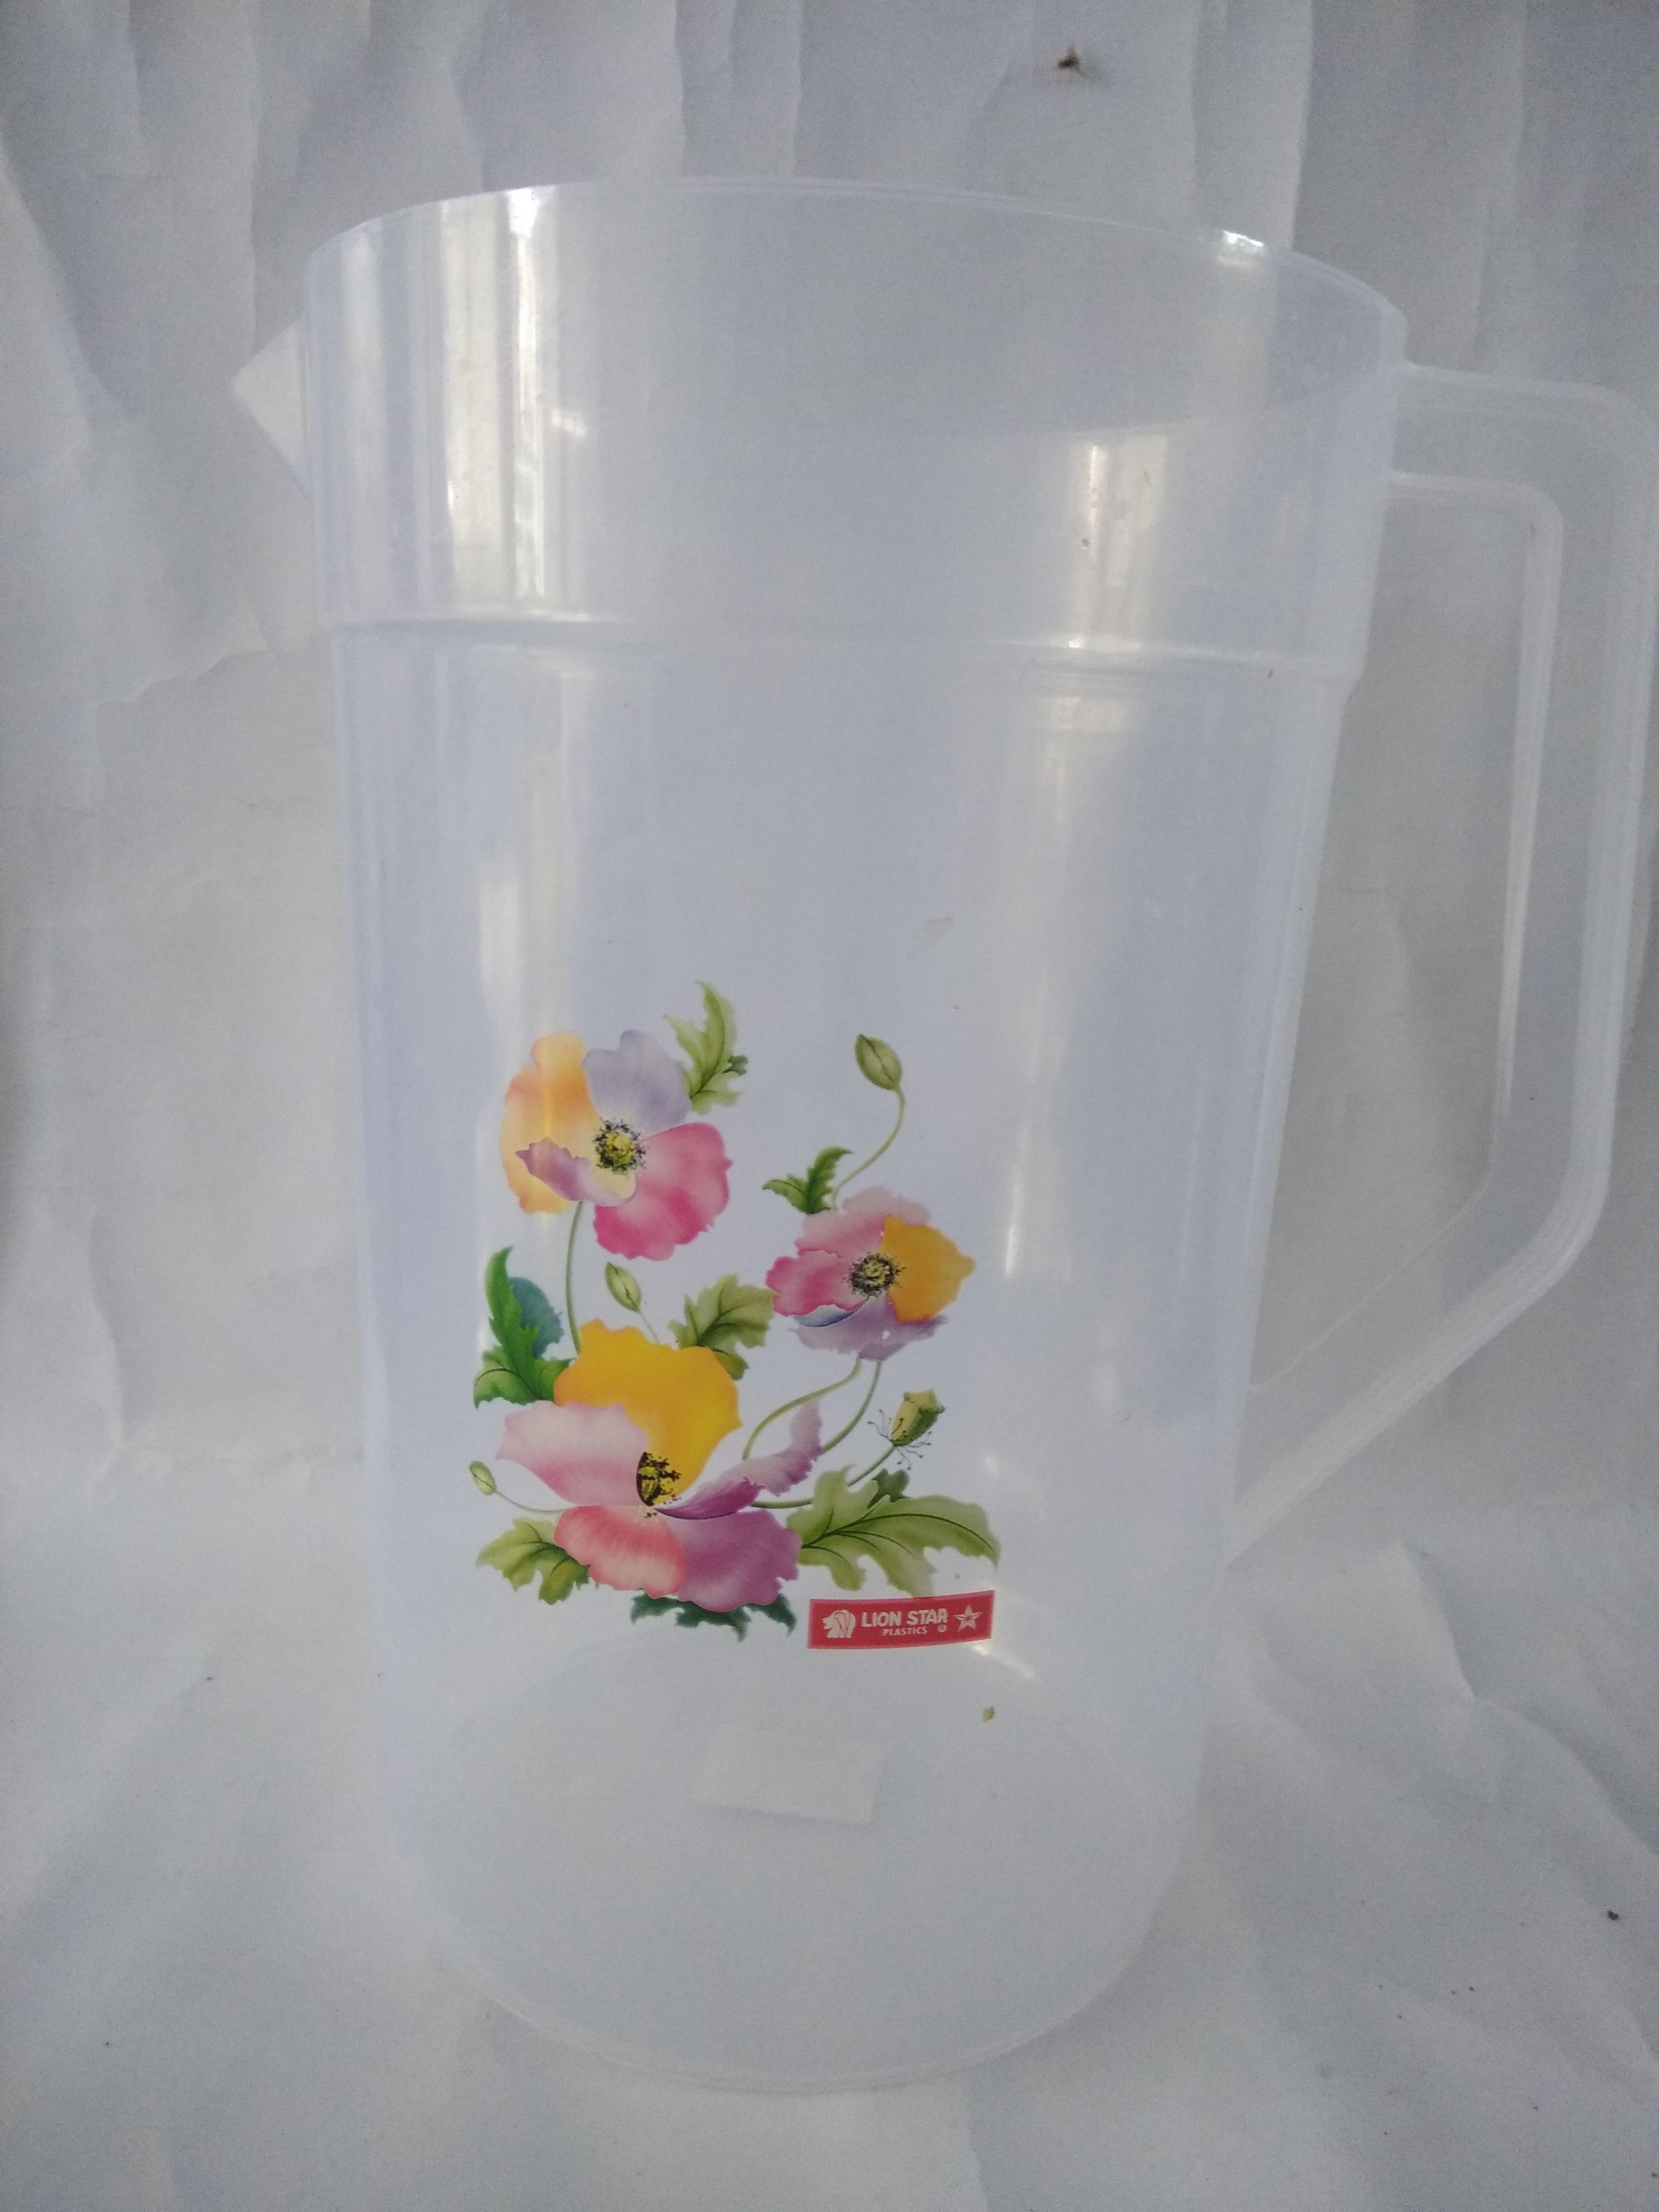PP: (225, 181, 1654, 2085)
